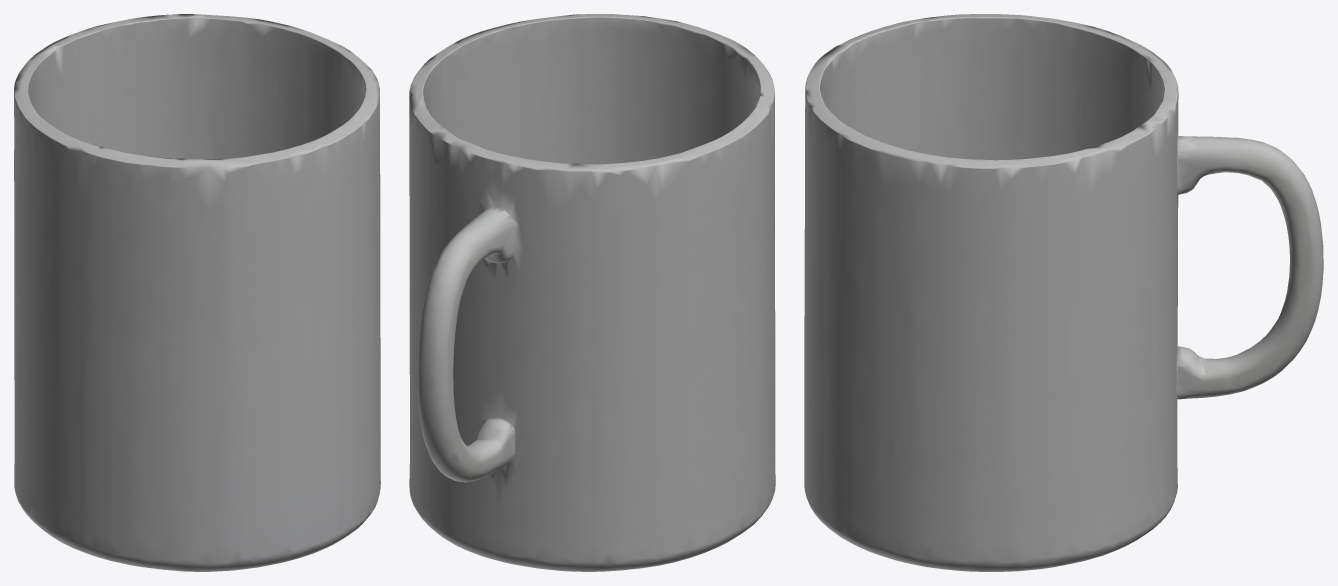
Rendered from cana.glb.
The picture shows the model from 3 angles, left to right: view 1: azimuth 30°, elevation 25°; view 2: azimuth 150°, elevation 25°; view 3: azimuth 270°, elevation 25°; orthographic projection.
Parts seen in each view (by area): view 1: tripo_node_497cc725-9baa-44da-9866-d97cb20ddc07; view 2: tripo_node_497cc725-9baa-44da-9866-d97cb20ddc07; view 3: tripo_node_497cc725-9baa-44da-9866-d97cb20ddc07.
Boxes of the visible parts, x1,y1,x2,y2 form: tripo_node_497cc725-9baa-44da-9866-d97cb20ddc07: (14,14,380,571); tripo_node_497cc725-9baa-44da-9866-d97cb20ddc07: (409,14,775,571); tripo_node_497cc725-9baa-44da-9866-d97cb20ddc07: (804,14,1323,571).
Bounding box in the file's own units: 0.7049 × 0.8863 × 1.
1 material, 1 textured.
